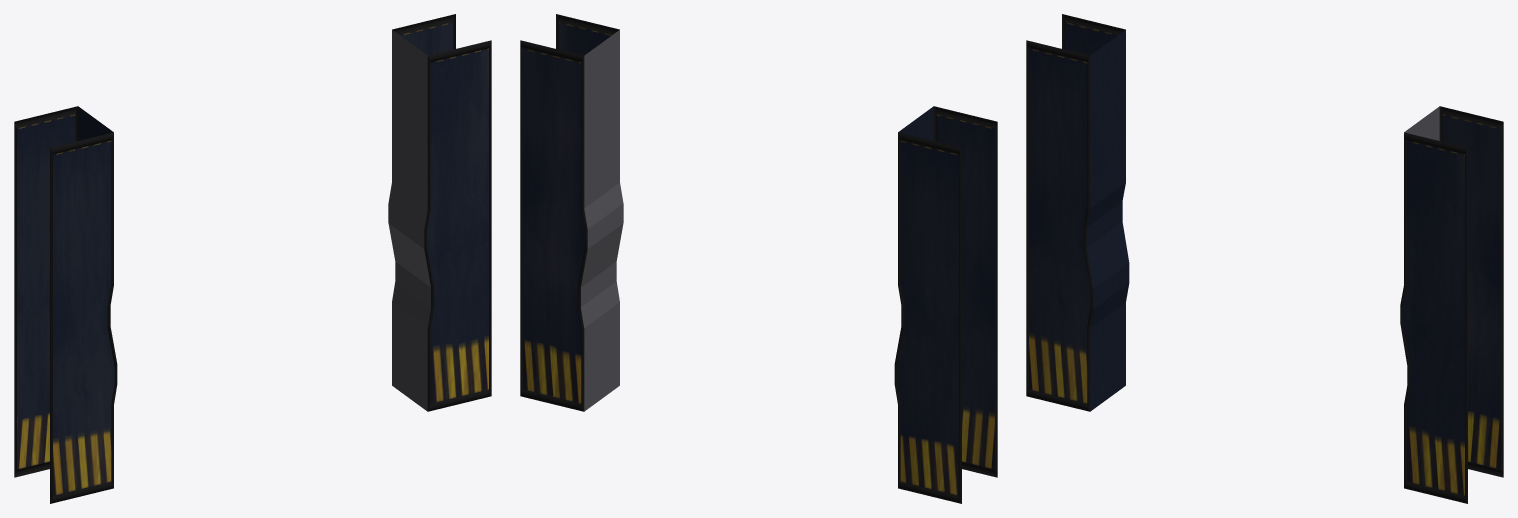
File: door-normal_000007.obj
The picture shows the model from 3 angles, left to right: view 1: azimuth 30°, elevation 25°; view 2: azimuth 150°, elevation 25°; view 3: azimuth 330°, elevation 25°; orthographic projection.
Visible parts, largest first — view 1: Door.Left_Cube.007, Door.Right_Cube.006; view 2: Door.Left_Cube.007, Door.Right_Cube.006; view 3: Door.Left_Cube.007, Door.Right_Cube.006.
Part boxes in pixels (x1,y1,x2,y2): Door.Left_Cube.007: (388, 14, 491, 411); Door.Right_Cube.006: (14, 106, 117, 503); Door.Left_Cube.007: (520, 14, 623, 411); Door.Right_Cube.006: (894, 106, 997, 503); Door.Left_Cube.007: (1400, 106, 1503, 503); Door.Right_Cube.006: (1026, 14, 1129, 411).
Bounding box in the file's own units: 6.82 × 5.26 × 0.9998.
Materials: 6 (6 with a texture image).
